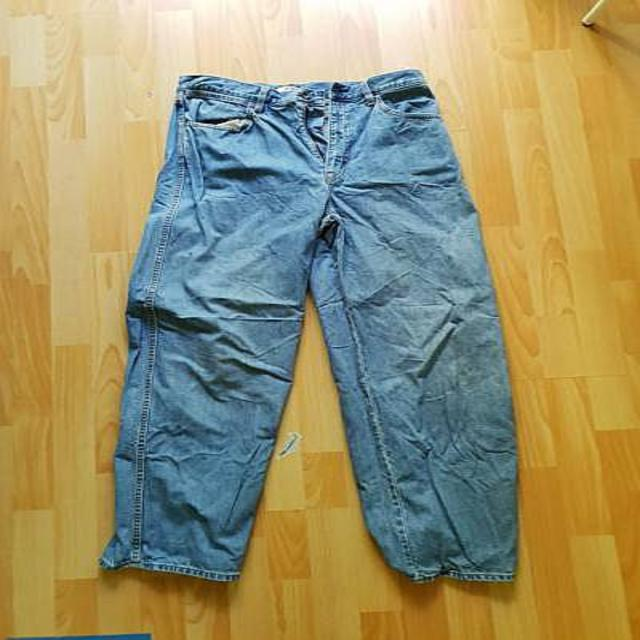TROUSER: (100, 57, 530, 598)
